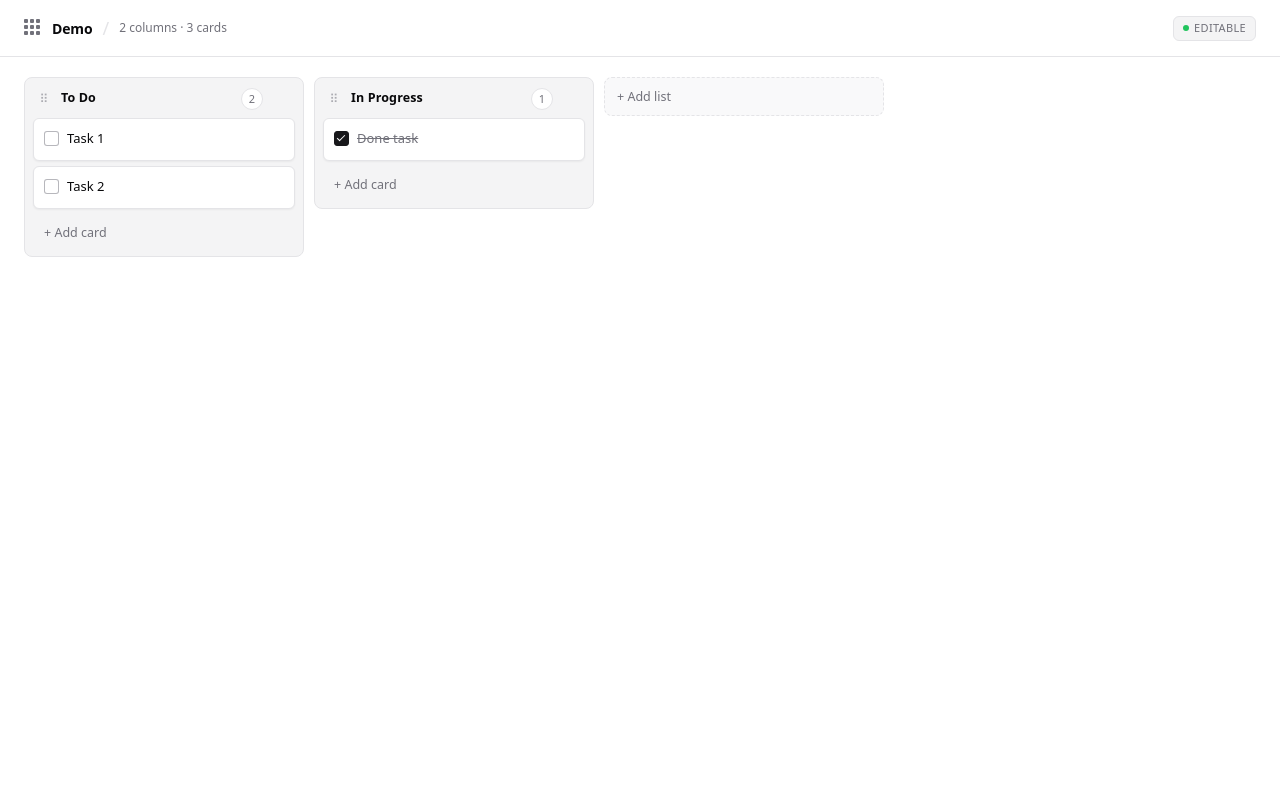
Board data loss (two-browser reproduction) › (b) SELF-ECHO CONTRACT (#46/#47): the self-echo baseline advances to OUR OWN save version, not "latest stored", so a higher peer version is NOT suppressed
This screenshot has width=1280, height=800.
// B toggles Task 1 → debounced save → flush OK → commitBaseline sets baseline to 1000.
Click the 1st checkbox at (52, 138), box [44,131,59,146]
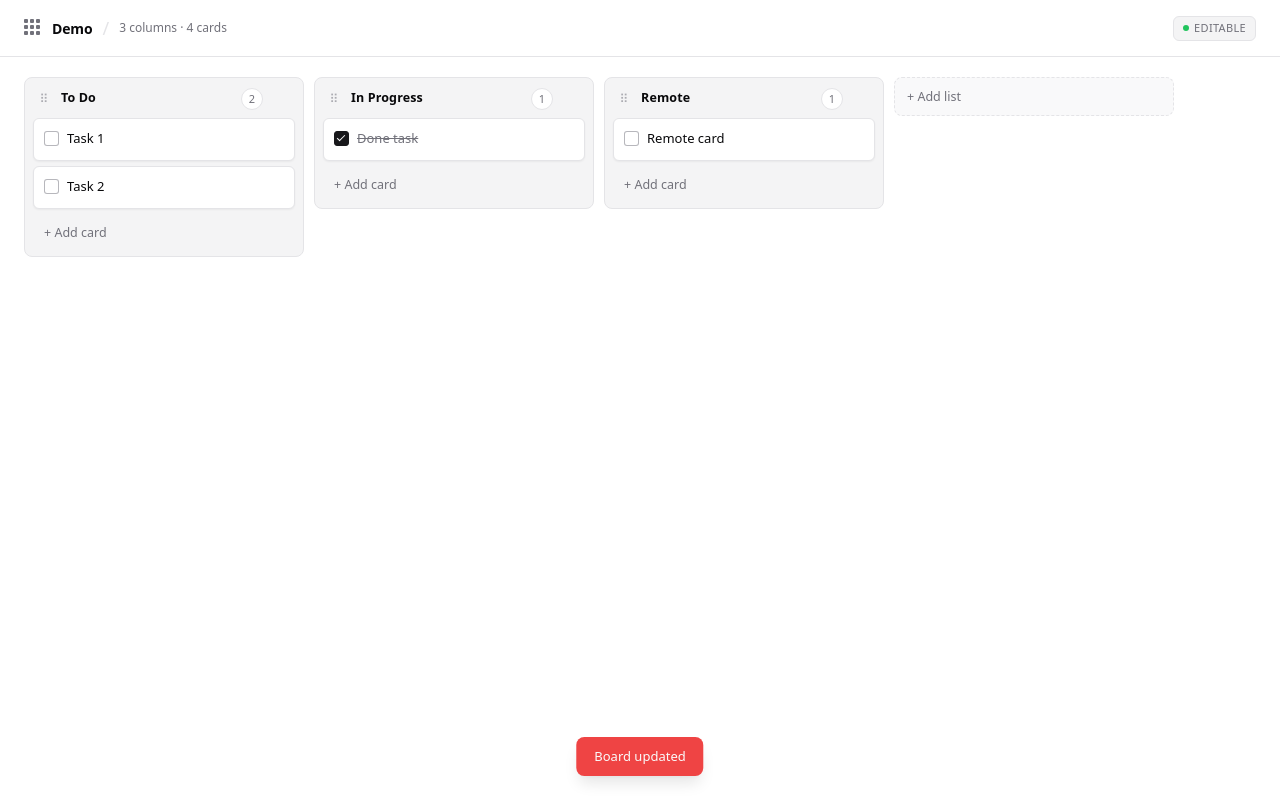
Expected: the button "Remote" is shown, [641,89,690,106]
